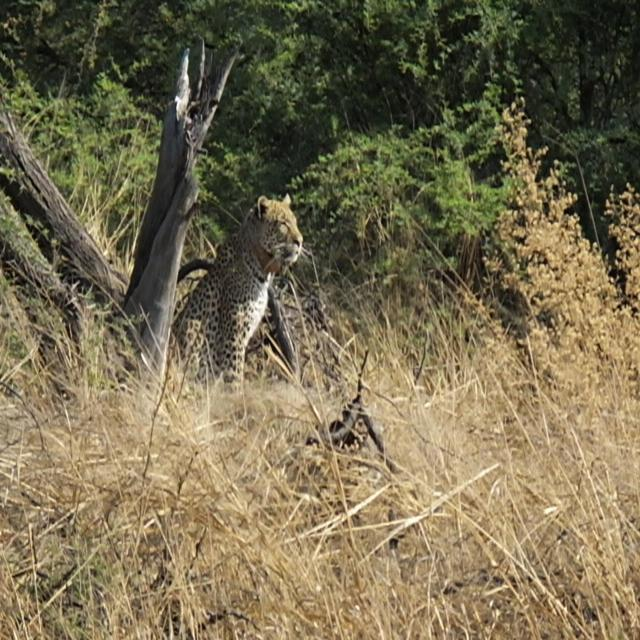Leopard: (169, 191, 307, 399)
